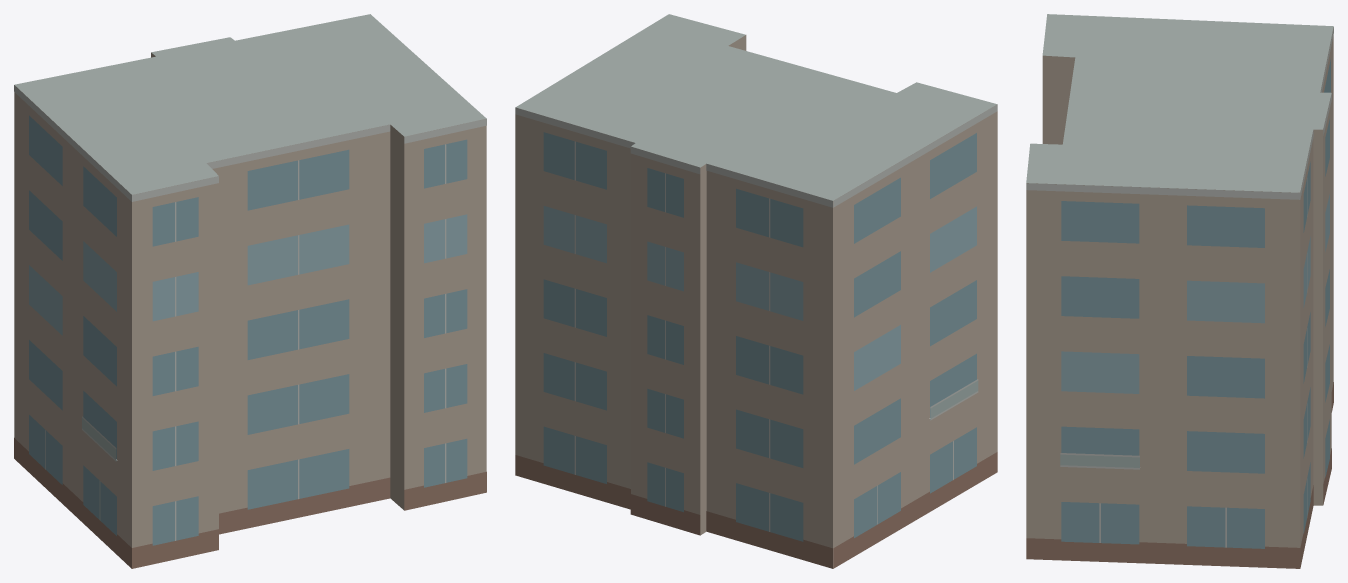
File: survey-upis-32943271.glb
3 renders of one model, left to right at view 1: azimuth 30°, elevation 25°; view 2: azimuth 150°, elevation 25°; view 3: azimuth 270°, elevation 25°, orthographic. The views are drawn at different scales.
Visible parts, largest first — view 1: survey-upis-32943271.tmp; view 2: survey-upis-32943271.tmp; view 3: survey-upis-32943271.tmp.
Boxes of the visible parts, box(x1,y1,x2,y2) form: survey-upis-32943271.tmp: box(14, 14, 486, 568); survey-upis-32943271.tmp: box(515, 14, 997, 568); survey-upis-32943271.tmp: box(1026, 14, 1333, 568).
Bounding box in the file's own units: 13.21 × 12.95 × 9.61.
